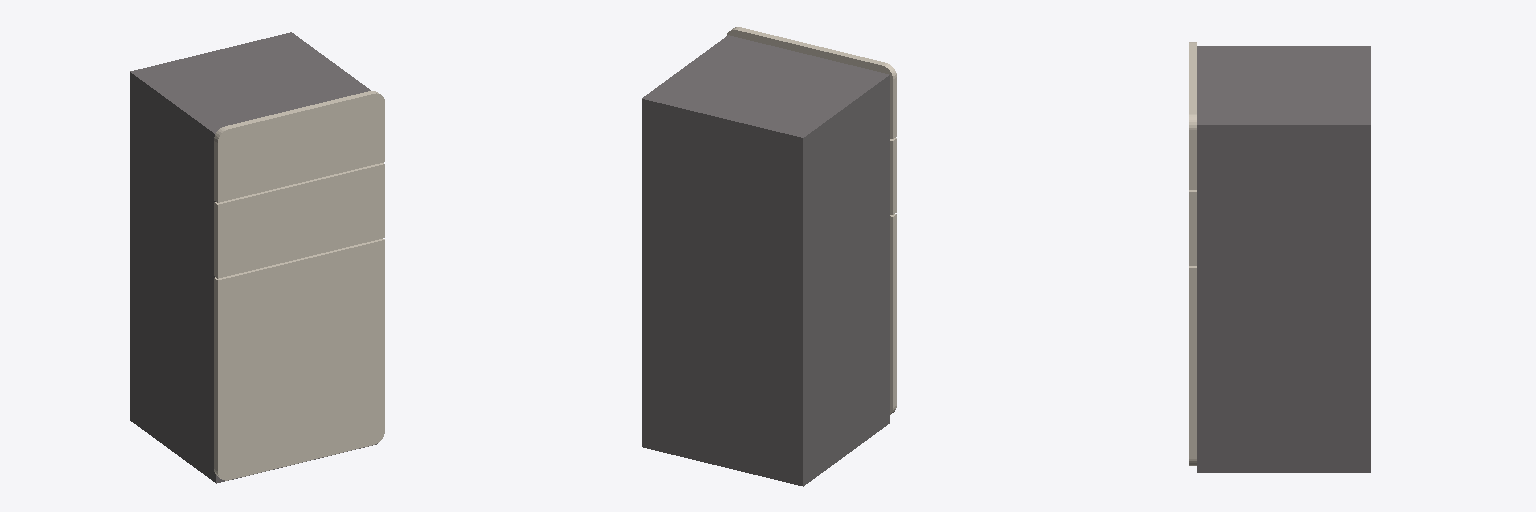
File: 2pir_komoda_waska.obj
The picture shows the model from 3 angles: view 1: azimuth 30°, elevation 25°; view 2: azimuth 150°, elevation 25°; view 3: azimuth 270°, elevation 25°; orthographic projection.
Parts seen in each view (by area): view 1: Rectangle10, Rectangle11; view 2: Rectangle11, Rectangle10; view 3: Rectangle11, Rectangle10.
Boxes of the visible parts, box(x1,y1,x2,y2) form: Rectangle10: box(214, 91, 384, 480); Rectangle11: box(130, 32, 377, 483); Rectangle11: box(642, 35, 889, 486); Rectangle10: box(727, 27, 896, 414); Rectangle11: box(1197, 46, 1370, 472); Rectangle10: box(1189, 42, 1196, 465).
Size of the model in its own units: 49.67 by 101 by 46.74.